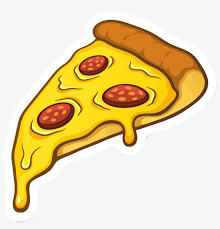pizza: (11, 11, 209, 191)
